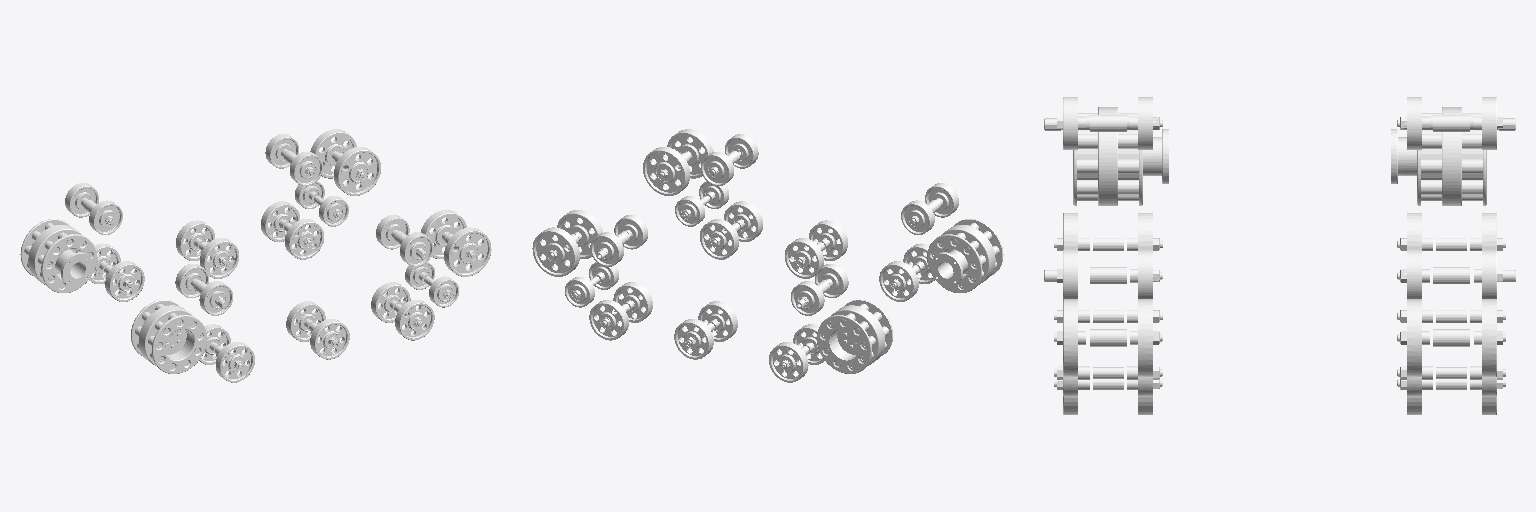
The robot description file, URDF, robot "bunker_description":
<?xml version="1.0" encoding="utf-8"?>
<!-- This URDF was automatically created by SolidWorks to URDF Exporter! Originally created by [author] ([email redacted]) 
     Commit Version: 1.6.0-1-g15f4949  Build Version: 1.6.7594.29634
     For more information, please see http://wiki.ros.org/sw_urdf_exporter -->
<robot  name="bunker_description" xmlns:xacro="http://www.ros.org/wiki/xacro">
 
  <link
    name="base_link">
     <inertial>
      <origin
        xyz="0.0212410555532523 0.00475458359568469 -0.127580557949736"
        rpy="0 0 0" />
      <mass
        value="22" />
      <inertia
        ixx="0.607716166684979"
        ixy="1.92178193996147E-05"
        ixz="-0.036532069356182"
        iyy="1.70041426855404"
        iyz="2.16963122007266E-05"
        izz="1.84232351935185" />
    </inertial>
    <visual>
      <origin
        xyz="0.53 -0.392 -0.358"
        rpy="1.57 0 3.14" />
      <geometry>
        <mesh
          filename="package://bunker_description/meshes/BUNKER.STL" scale="0.001 0.001 0.001" />
      </geometry>
      <material
        name="Gray">
        <color
          rgba="0.5 0.5 0.5 1" />
      </material>
    </visual>
    <collision>
      <origin
        xyz="0.53 -0.392 -0.358"
        rpy="1.57 0 3.14" />
      <geometry>
        <mesh
          filename="package://bunker_description/meshes/BUNKER.STL" scale="0.001 0.001 0.001" />
      </geometry>
    </collision>
  </link>
  <link
    name="wheel1_Link">
    <inertial>
      <origin
        xyz="0 -1.38777878078145E-17 -0.0719999999999999"
        rpy="0 0 0" />
      <mass
        value="0.392034219968119" />
      <inertia
        ixx="0.000378440530116381"
        ixy="5.60822736805661E-21"
        ixz="3.04207802822425E-20"
        iyy="0.000378440530116381"
        iyz="-7.56626980356474E-21"
        izz="0.000710150518820894" />
    </inertial>
    <visual>
      <origin
        xyz="0 0 0"
        rpy="0 0 0" />
      <geometry>
        <mesh
          filename="package://bunker_description/meshes/wheel1_Link.STL" />
      </geometry>
      <material
        name="">
        <color
          rgba="1 1 1 1" />
      </material>
    </visual>
    <collision>
      <origin
        xyz="0 0 0"
        rpy="0 0 0" />
      <geometry>
        <mesh
          filename="package://bunker_description/meshes/wheel1_Link.STL" />
      </geometry>
    </collision>
  </link>
  <joint
    name="wheel1_joint"
    type="revolute">
    <origin
      xyz="0.44403 0.3495 -0.12853"
      rpy="1.5708 0 -3.1416" />
    <parent
      link="base_link" />
    <child
      link="wheel1_Link" />
    <axis
      xyz="0 0 1" />
    <limit
      lower="-180"
      upper="180"
      effort="0"
      velocity="0" />
  </joint>
  <link
    name="wheel1.1_Link">
    <inertial>
      <origin
        xyz="-1.74279013442913E-08 5.87093572021469E-08 -0.0720000000000001"
        rpy="0 0 0" />
      <mass
        value="0.190328287901002" />
      <inertia
        ixx="6.58750963981394E-05"
        ixy="-1.46558944641469E-09"
        ixz="-8.34967331718859E-12"
        iyy="6.58795984671517E-05"
        iyz="-2.4786046130206E-12"
        izz="0.000112721820875598" />
    </inertial>
    <visual>
      <origin
        xyz="0 0 0"
        rpy="0 0 0" />
      <geometry>
        <mesh
          filename="package://bunker_description/meshes/wheel1.1_Link.STL" />
      </geometry>
      <material
        name="">
        <color
          rgba="1 1 1 1" />
      </material>
    </visual>
    <collision>
      <origin
        xyz="0 0 0"
        rpy="0 0 0" />
      <geometry>
        <mesh
          filename="package://bunker_description/meshes/wheel1.1_Link.STL" />
      </geometry>
    </collision>
  </link>
  <joint
    name="wheel1.1_jont"
    type="revolute">
    <origin
      xyz="0.37551 0.3495 -0.22305"
      rpy="1.5708 0 -3.1416" />
    <parent
      link="base_link" />
    <child
      link="wheel1.1_Link" />
    <axis
      xyz="0 0 1" />
    <limit
      lower="-180"
      upper="180"
      effort="0"
      velocity="0" />
  </joint>
  <link
    name="wheel1.2_Link">
    <inertial>
      <origin
        xyz="1.66533453693773E-16 4.16333634234434E-17 -0.0720000000000002"
        rpy="0 0 0" />
      <mass
        value="0.271192811687251" />
      <inertia
        ixx="0.000179574259018481"
        ixy="1.15789498120549E-20"
        ixz="1.3563351843978E-21"
        iyy="0.000179574259018481"
        iyz="6.0369822309622E-23"
        izz="0.000332594534732139" />
    </inertial>
    <visual>
      <origin
        xyz="0 0 0"
        rpy="0 0 0" />
      <geometry>
        <mesh
          filename="package://bunker_description/meshes/wheel1.2_Link.STL" />
      </geometry>
      <material
        name="">
        <color
          rgba="1 1 1 1" />
      </material>
    </visual>
    <collision>
      <origin
        xyz="0 0 0"
        rpy="0 0 0" />
      <geometry>
        <mesh
          filename="package://bunker_description/meshes/wheel1.2_Link.STL" />
      </geometry>
    </collision>
  </link>
  <joint
    name="wheel1.2_joint"
    type="revolute">
    <origin
      xyz="0.29039 0.3495 -0.28104"
      rpy="1.5708 0 -3.1416" />
    <parent
      link="base_link" />
    <child
      link="wheel1.2_Link" />
    <axis
      xyz="0 0 1" />
    <limit
      lower="-180"
      upper="180"
      effort="0"
      velocity="0" />
  </joint>
  <link
    name="wheel1.3_Link">
    <inertial>
      <origin
        xyz="3.44025652177504E-05 -2.66346274915008E-05 -0.0701504149473696"
        rpy="0 0 0" />
      <mass
        value="0.245835028330933" />
      <inertia
        ixx="0.000105254202004996"
        ixy="1.32328029886322E-08"
        ixz="3.84294589102693E-11"
        iyy="0.000105248656147198"
        iyz="-1.41155611914915E-11"
        izz="0.000173280771745758" />
    </inertial>
    <visual>
      <origin
        xyz="0 0 0"
        rpy="0 0 0" />
      <geometry>
        <mesh
          filename="package://bunker_description/meshes/wheel1.3_Link.STL" />
      </geometry>
      <material
        name="">
        <color
          rgba="1 1 1 1" />
      </material>
    </visual>
    <collision>
      <origin
        xyz="0 0 0"
        rpy="0 0 0" />
      <geometry>
        <mesh
          filename="package://bunker_description/meshes/wheel1.3_Link.STL" />
      </geometry>
    </collision>
  </link>
  <joint
    name="wheel1.3_joint"
    type="revolute">
    <origin
      xyz="0.29603 0.3495 -0.087"
      rpy="1.5708 0 -3.1416" />
    <parent
      link="base_link" />
    <child
      link="wheel1.3_Link" />
    <axis
      xyz="0 0 -1" />
    <limit
      lower="-180"
      upper="180"
      effort="0"
      velocity="0" />
  </joint>
  <link
    name="wheel2_Link">
    <inertial>
      <origin
        xyz="-1.66533453693773E-16 0 0.072"
        rpy="0 0 0" />
      <mass
        value="0.392034219968119" />
      <inertia
        ixx="0.000378440530116381"
        ixy="3.37302217863781E-21"
        ixz="2.71827270955143E-20"
        iyy="0.000378440530116381"
        iyz="-7.32821644893157E-21"
        izz="0.000710150518820894" />
    </inertial>
    <visual>
      <origin
        xyz="0 0 0"
        rpy="0 0 0" />
      <geometry>
        <mesh
          filename="package://bunker_description/meshes/wheel2_Link.STL" />
      </geometry>
      <material
        name="">
        <color
          rgba="1 1 1 1" />
      </material>
    </visual>
    <collision>
      <origin
        xyz="0 0 0"
        rpy="0 0 0" />
      <geometry>
        <mesh
          filename="package://bunker_description/meshes/wheel2_Link.STL" />
      </geometry>
    </collision>
  </link>
  <joint
    name="wheel2_joint"
    type="revolute">
    <origin
      xyz="0.44403 -0.3495 -0.12853"
      rpy="1.5708 0 -3.1416" />
    <parent
      link="base_link" />
    <child
      link="wheel2_Link" />
    <axis
      xyz="0 0 -1" />
    <limit
      lower="-180"
      upper="180"
      effort="0"
      velocity="0" />
  </joint>
  <link
    name="wheel2.1_Link">
    <inertial>
      <origin
        xyz="-1.74279017328693E-08 5.87093572160247E-08 0.0720000000000002"
        rpy="0 0 0" />
      <mass
        value="0.190328287901002" />
      <inertia
        ixx="6.58750963981394E-05"
        ixy="-1.46558944642761E-09"
        ixz="-8.34967332343028E-12"
        iyy="6.58795984671517E-05"
        iyz="-2.47860459929511E-12"
        izz="0.000112721820875598" />
    </inertial>
    <visual>
      <origin
        xyz="0 0 0"
        rpy="0 0 0" />
      <geometry>
        <mesh
          filename="package://bunker_description/meshes/wheel2.1_Link.STL" />
      </geometry>
      <material
        name="">
        <color
          rgba="1 1 1 1" />
      </material>
    </visual>
    <collision>
      <origin
        xyz="0 0 0"
        rpy="0 0 0" />
      <geometry>
        <mesh
          filename="package://bunker_description/meshes/wheel2.1_Link.STL" />
      </geometry>
    </collision>
  </link>
  <joint
    name="wheel2.1_joint"
    type="revolute">
    <origin
      xyz="0.37551 -0.3495 -0.22305"
      rpy="1.5708 0 -3.1416" />
    <parent
      link="base_link" />
    <child
      link="wheel2.1_Link" />
    <axis
      xyz="0 0 -1" />
    <limit
      lower="-180"
      upper="180"
      effort="0"
      velocity="0" />
  </joint>
  <link
    name="wheel2.2_Link">
    <inertial>
      <origin
        xyz="-1.38777878078145E-16 -4.85722573273506E-17 0.0720000000000003"
        rpy="0 0 0" />
      <mass
        value="0.27119281168725" />
      <inertia
        ixx="0.00017957425901848"
        ixy="6.28960386226657E-21"
        ixz="2.14010788664762E-21"
        iyy="0.00017957425901848"
        iyz="1.27709655724716E-22"
        izz="0.000332594534732139" />
    </inertial>
    <visual>
      <origin
        xyz="0 0 0"
        rpy="0 0 0" />
      <geometry>
        <mesh
          filename="package://bunker_description/meshes/wheel2.2_Link.STL" />
      </geometry>
      <material
        name="">
        <color
          rgba="1 1 1 1" />
      </material>
    </visual>
    <collision>
      <origin
        xyz="0 0 0"
        rpy="0 0 0" />
      <geometry>
        <mesh
          filename="package://bunker_description/meshes/wheel2.2_Link.STL" />
      </geometry>
    </collision>
  </link>
  <joint
    name="wheel2.2_joint"
    type="revolute">
    <origin
      xyz="0.29039 -0.3495 -0.28104"
      rpy="1.5708 0 -3.1416" />
    <parent
      link="base_link" />
    <child
      link="wheel2.2_Link" />
    <axis
      xyz="0 0 -1" />
    <limit
      lower="-180"
      upper="180"
      effort="0"
      velocity="0" />
  </joint>
  <link
    name="wheel2.3_Link">
    <inertial>
      <origin
        xyz="3.51083051564616E-05 -2.7181014665284E-05 0.0709276770204769"
        rpy="0 0 0" />
      <mass
        value="0.240893303086836" />
      <inertia
        ixx="0.000105035118852508"
        ixy="1.32328029886296E-08"
        ixz="3.84294589110161E-11"
        iyy="0.00010502957299471"
        iyz="-1.41155611875745E-11"
        izz="0.00017298179736849" />
    </inertial>
    <visual>
      <origin
        xyz="0 0 0"
        rpy="0 0 0" />
      <geometry>
        <mesh
          filename="package://bunker_description/meshes/wheel2.3_Link.STL" />
      </geometry>
      <material
        name="">
        <color
          rgba="1 1 1 1" />
      </material>
    </visual>
    <collision>
      <origin
        xyz="0 0 0"
        rpy="0 0 0" />
      <geometry>
        <mesh
          filename="package://bunker_description/meshes/wheel2.3_Link.STL" />
      </geometry>
    </collision>
  </link>
  <joint
    name="wheel2.3_joint"
    type="revolute">
    <origin
      xyz="0.29603 -0.3495 -0.087"
      rpy="1.5708 0 -3.1416" />
    <parent
      link="base_link" />
    <child
      link="wheel2.3_Link" />
    <axis
      xyz="0 0 1" />
    <limit
      lower="-180"
      upper="180"
      effort="0"
      velocity="0" />
  </joint>
  <link
    name="wheel3_Link">
    <inertial>
      <origin
        xyz="-1.5143569731535E-10 7.07767178198537E-16 -0.0246054820762604"
        rpy="0 0 0" />
      <mass
        value="1.35828296445862" />
      <inertia
        ixx="0.00232456013775523"
        ixy="-1.61343020248111E-09"
        ixz="-4.5670735364335E-13"
        iyy="0.00232456564213727"
        iyz="-1.36036258272812E-18"
        izz="0.00308347787030649" />
    </inertial>
    <visual>
      <origin
        xyz="0 0 0"
        rpy="0 0 0" />
      <geometry>
        <mesh
          filename="package://bunker_description/meshes/wheel3_Link.STL" />
      </geometry>
      <material
        name="">
        <color
          rgba="1 1 1 1" />
      </material>
    </visual>
    <collision>
      <origin
        xyz="0 0 0"
        rpy="0 0 0" />
      <geometry>
        <mesh
          filename="package://bunker_description/meshes/wheel3_Link.STL" />
      </geometry>
    </collision>
  </link>
  <joint
    name="wheel3_joint"
    type="revolute">
    <origin
      xyz="-0.38871 0.295 -0.19381"
      rpy="1.5708 0 -3.1416" />
    <parent
      link="base_link" />
    <child
      link="wheel3_Link" />
    <axis
      xyz="0 0 -1" />
    <limit
      lower="-180"
      upper="180"
      effort="0"
      velocity="0" />
  </joint>
  <link
    name="wheel3.1_Link">
    <inertial>
      <origin
        xyz="5.55111512312578E-17 5.55111512312578E-17 -0.0720000000000002"
        rpy="0 0 0" />
      <mass
        value="0.271192811687251" />
      <inertia
        ixx="0.000179574259018481"
        ixy="-1.73824343982442E-20"
        ixz="-2.53159654382751E-21"
        iyy="0.000179574259018481"
        iyz="-3.13741449878515E-21"
        izz="0.000332594534732139" />
    </inertial>
    <visual>
      <origin
        xyz="0 0 0"
        rpy="0 0 0" />
      <geometry>
        <mesh
          filename="package://bunker_description/meshes/wheel3.1_Link.STL" />
      </geometry>
      <material
        name="">
        <color
          rgba="1 1 1 1" />
      </material>
    </visual>
    <collision>
      <origin
        xyz="0 0 0"
        rpy="0 0 0" />
      <geometry>
        <mesh
          filename="package://bunker_description/meshes/wheel3.1_Link.STL" />
      </geometry>
    </collision>
  </link>
  <joint
    name="wheel3.1_joint"
    type="revolute">
    <origin
      xyz="-0.23111 0.3495 -0.27671"
      rpy="1.5708 0 -3.1416" />
    <parent
      link="base_link" />
    <child
      link="wheel3.1_Link" />
    <axis
      xyz="0 0 1" />
    <limit
      lower="-180"
      upper="180"
      effort="0"
      velocity="0" />
  </joint>
  <link
    name="wheel3.2_Link">
    <inertial>
      <origin
        xyz="7.58128369110489E-17 7.63278329429795E-17 -0.0720000000000003"
        rpy="0 0 0" />
      <mass
        value="0.27119281168725" />
      <inertia
        ixx="0.00017957425901848"
        ixy="9.82929052458426E-22"
        ixz="1.10990388135291E-21"
        iyy="0.00017957425901848"
        iyz="-4.81322327079121E-21"
        izz="0.000332594534732139" />
    </inertial>
    <visual>
      <origin
        xyz="0 0 0"
        rpy="0 0 0" />
      <geometry>
        <mesh
          filename="package://bunker_description/meshes/wheel3.2_Link.STL" />
      </geometry>
      <material
        name="">
        <color
          rgba="1 1 1 1" />
      </material>
    </visual>
    <collision>
      <origin
        xyz="0 0 0"
        rpy="0 0 0" />
      <geometry>
        <mesh
          filename="package://bunker_description/meshes/wheel3.2_Link.STL" />
      </geometry>
    </collision>
  </link>
  <joint
    name="wheel3.2_joint"
    type="revolute">
    <origin
      xyz="0.043885 0.3495 -0.27671"
      rpy="1.5708 0 -3.1416" />
    <parent
      link="base_link" />
    <child
      link="wheel3.2_Link" />
    <axis
      xyz="0 0 1" />
    <limit
      lower="-180"
      upper="180"
      effort="0"
      velocity="0" />
  </joint>
  <link
    name="wheel3.3_Link">
    <inertial>
      <origin
        xyz="1.37732703020532E-08 -5.29206664124648E-05 -0.0701501700151683"
        rpy="0 0 0" />
      <mass
        value="0.245836054976119" />
      <inertia
        ixx="0.000105264944409738"
        ixy="7.98231761628902E-12"
        ixz="6.80400273605472E-11"
        iyy="0.000105238344260685"
        iyz="-2.72106317781962E-11"
        izz="0.000173281039335396" />
    </inertial>
    <visual>
      <origin
        xyz="0 0 0"
        rpy="0 0 0" />
      <geometry>
        <mesh
          filename="package://bunker_description/meshes/wheel3.3_Link.STL" />
      </geometry>
      <material
        name="">
        <color
          rgba="1 1 1 1" />
      </material>
    </visual>
    <collision>
      <origin
        xyz="0 0 0"
        rpy="0 0 0" />
      <geometry>
        <mesh
          filename="package://bunker_description/meshes/wheel3.3_Link.STL" />
      </geometry>
    </collision>
  </link>
  <joint
    name="wheel3.3_joint"
    type="revolute">
    <origin
      xyz="-0.28597 0.3495 -0.087"
      rpy="1.5708 0 -3.1416" />
    <parent
      link="base_link" />
    <child
      link="wheel3.3_Link" />
    <axis
      xyz="0 0 -1" />
    <limit
      lower="-180"
      upper="180"
      effort="0"
      velocity="0" />
  </joint>
  <link
    name="wheel4_Link">
    <inertial>
      <origin
        xyz="5.55111512312578E-17 1.51436273243544E-10 0.0245928853369881"
        rpy="0 0 0" />
      <mass
        value="1.35828296445862" />
      <inertia
        ixx="0.00232456564213727"
        ixy="-1.6134302023684E-09"
        ixz="-3.67391703208082E-19"
        iyy="0.00232456013775523"
        iyz="-4.56707494796216E-13"
        izz="0.00308347787030649" />
    </inertial>
    <visual>
      <origin
        xyz="0 0 0"
        rpy="0 0 0" />
      <geometry>
        <mesh
          filename="package://bunker_description/meshes/wheel4_Link.STL" />
      </geometry>
      <material
        name="">
        <color
          rgba="1 1 1 1" />
      </material>
    </visual>
    <collision>
      <origin
        xyz="0 0 0"
        rpy="0 0 0" />
      <geometry>
        <mesh
          filename="package://bunker_description/meshes/wheel4_Link.STL" />
      </geometry>
    </collision>
  </link>
  <joint
    name="wheel4_joint"
    type="revolute">
    <origin
      xyz="-0.38871 -0.295 -0.19381"
      rpy="1.5708 0 -3.1416" />
    <parent
      link="base_link" />
    <child
      link="wheel4_Link" />
    <axis
      xyz="0 0 1" />
    <limit
      lower="-180"
      upper="180"
      effort="0"
      velocity="0" />
  </joint>
  <link
    name="wheel4.1_Link">
    <inertial>
      <origin
        xyz="-1.11022302462516E-16 -5.55111512312578E-17 0.0720000000000002"
        rpy="0 0 0" />
      <mass
        value="0.271192811687251" />
      <inertia
        ixx="0.000179574259018481"
        ixy="-7.93399024302093E-21"
        ixz="-2.13342044570487E-21"
        iyy="0.000179574259018481"
        iyz="-3.23624373974149E-21"
        izz="0.000332594534732139" />
    </inertial>
    <visual>
      <origin
        xyz="0 0 0"
        rpy="0 0 0" />
      <geometry>
        <mesh
          filename="package://bunker_description/meshes/wheel4.1_Link.STL" />
      </geometry>
      <material
        name="">
        <color
          rgba="1 1 1 1" />
      </material>
    </visual>
    <collision>
      <origin
        xyz="0 0 0"
        rpy="0 0 0" />
      <geometry>
        <mesh
          filename="package://bunker_description/meshes/wheel4.1_Link.STL" />
      </geometry>
    </collision>
  </link>
  <joint
    name="wheel4.1_joint"
    type="revolute">
    <origin
      xyz="-0.23111 -0.3495 -0.27671"
      rpy="1.5708 0 -3.1416" />
    <parent
      link="base_link" />
    <child
      link="wheel4.1_Link" />
    <axis
      xyz="0 0 -1" />
    <limit
      lower="-180"
      upper="180"
      effort="0"
      velocity="0" />
  </joint>
  <link
    name="wheel4.2_Link">
    <inertial>
      <origin
        xyz="-7.64498056873841E-17 -4.85722573273506E-17 0.0720000000000004"
        rpy="0 0 0" />
      <mass
        value="0.27119281168725" />
      <inertia
        ixx="0.00017957425901848"
        ixy="6.3005828905746E-22"
        ixz="1.1753358195074E-22"
        iyy="0.00017957425901848"
        iyz="-3.27347099653111E-21"
        izz="0.000332594534732139" />
    </inertial>
    <visual>
      <origin
        xyz="0 0 0"
        rpy="0 0 0" />
      <geometry>
        <mesh
          filename="package://bunker_description/meshes/wheel4.2_Link.STL" />
      </geometry>
      <material
        name="">
        <color
          rgba="1 1 1 1" />
      </material>
    </visual>
    <collision>
      <origin
        xyz="0 0 0"
        rpy="0 0 0" />
      <geometry>
        <mesh
          filename="package://bunker_description/meshes/wheel4.2_Link.STL" />
      </geometry>
    </collision>
  </link>
  <joint
    name="wheel4.2_joint"
    type="revolute">
    <origin
      xyz="0.043885 -0.3495 -0.27671"
      rpy="1.5708 0 -3.1416" />
    <parent
      link="base_link" />
    <child
      link="wheel4.2_Link" />
    <axis
      xyz="0 0 -1" />
    <limit
      lower="-180"
      upper="180"
      effort="0"
      velocity="0" />
  </joint>
  <link
    name="wheel4.3_Link">
    <inertial>
      <origin
        xyz="1.37732700244975E-08 -5.29206664124926E-05 0.0701152686893121"
        rpy="0 0 0" />
      <mass
        value="0.245836054976119" />
      <inertia
        ixx="0.000105264944409738"
        ixy="7.98231761858719E-12"
        ixz="6.80400273764357E-11"
        iyy="0.000105238344260685"
        iyz="-2.72106317797361E-11"
        izz="0.000173281039335396" />
    </inertial>
    <visual>
      <origin
        xyz="0 0 0"
        rpy="0 0 0" />
      <geometry>
        <mesh
          filename="package://bunker_description/meshes/wheel4.3_Link.STL" />
      </geometry>
      <material
        name="">
        <color
          rgba="1 1 1 1" />
      </material>
    </visual>
    <collision>
      <origin
        xyz="0 0 0"
        rpy="0 0 0" />
      <geometry>
        <mesh
          filename="package://bunker_description/meshes/wheel4.3_Link.STL" />
      </geometry>
    </collision>
  </link>
  <joint
    name="wheel4.3_joint"
    type="revolute">
    <origin
      xyz="-0.28597 -0.3495 -0.087"
      rpy="1.5708 0 -3.1416" />
    <parent
      link="base_link" />
    <child
      link="wheel4.3_Link" />
    <axis
      xyz="0 0 1" />
    <limit
      lower="-180"
      upper="180"
      effort="0"
      velocity="0" />
  </joint>

</robot>

--- Facts derived from the render (not from the file) ---
The picture shows the robot from 3 angles, left to right: view 1: azimuth 30°, elevation 25°; view 2: azimuth 150°, elevation 25°; view 3: azimuth 270°, elevation 25°; orthographic projection.
Model bunker_description with 17 links and 16 joints (16 revolute), rooted at base_link, posed all joints at 0.
Links seen in each view (by area): view 1: wheel4_Link, wheel3_Link, wheel1_Link, wheel2_Link, wheel1.2_Link, wheel2.2_Link, wheel4.2_Link, wheel3.2_Link, wheel4.1_Link, wheel3.1_Link, wheel2.3_Link, wheel3.3_Link (+4 smaller); view 2: wheel3_Link, wheel4_Link, wheel2_Link, wheel1_Link, wheel1.2_Link, wheel2.2_Link, wheel3.2_Link, wheel4.2_Link, wheel3.1_Link, wheel4.1_Link, wheel1.3_Link, wheel4.3_Link (+4 smaller); view 3: wheel3_Link, wheel4_Link, wheel1_Link, wheel2_Link, wheel3.3_Link, wheel4.3_Link, wheel1.3_Link, wheel2.3_Link, wheel3.1_Link, wheel4.1_Link, wheel1.1_Link, wheel2.1_Link (+4 smaller).
Boxes of the visible links, box(x1,y1,x2,y2) form: wheel4_Link: box(131, 300, 206, 373); wheel3_Link: box(20, 219, 96, 292); wheel1_Link: box(310, 129, 380, 195); wheel2_Link: box(421, 210, 491, 276); wheel1.2_Link: box(261, 201, 323, 259); wheel2.2_Link: box(371, 282, 434, 340); wheel4.2_Link: box(286, 301, 349, 359); wheel3.2_Link: box(176, 220, 238, 278); wheel4.1_Link: box(199, 324, 254, 382); wheel3.1_Link: box(89, 243, 144, 301); wheel2.3_Link: box(376, 215, 433, 266); wheel3.3_Link: box(65, 183, 122, 234); wheel3_Link: box(817, 300, 892, 373); wheel4_Link: box(927, 219, 1003, 292); wheel2_Link: box(643, 129, 713, 195); wheel1_Link: box(532, 210, 602, 276); wheel1.2_Link: box(589, 282, 652, 340); wheel2.2_Link: box(700, 201, 762, 259); wheel3.2_Link: box(674, 301, 737, 359); wheel4.2_Link: box(785, 220, 847, 278); wheel3.1_Link: box(769, 324, 824, 382); wheel4.1_Link: box(879, 243, 934, 301); wheel1.3_Link: box(590, 215, 647, 266); wheel4.3_Link: box(901, 183, 958, 234); wheel3_Link: box(1391, 107, 1486, 205); wheel4_Link: box(1073, 107, 1168, 205); wheel1_Link: box(1397, 299, 1505, 376); wheel2_Link: box(1054, 299, 1162, 376); wheel3.3_Link: box(1397, 97, 1515, 149); wheel4.3_Link: box(1044, 97, 1162, 149); wheel1.3_Link: box(1397, 250, 1515, 298); wheel2.3_Link: box(1044, 250, 1162, 298); wheel3.1_Link: box(1397, 213, 1505, 250); wheel4.1_Link: box(1054, 213, 1162, 250); wheel1.1_Link: box(1397, 366, 1505, 395); wheel2.1_Link: box(1054, 366, 1162, 395).
Bounding box of the posed robot: 0.9747 × 0.7605 × 0.2875 m (x, y, z).
16 mesh visuals loaded from 17 distinct referenced files (16 binary STL); not drawn: 1 (reference not matched to a file when rendering).